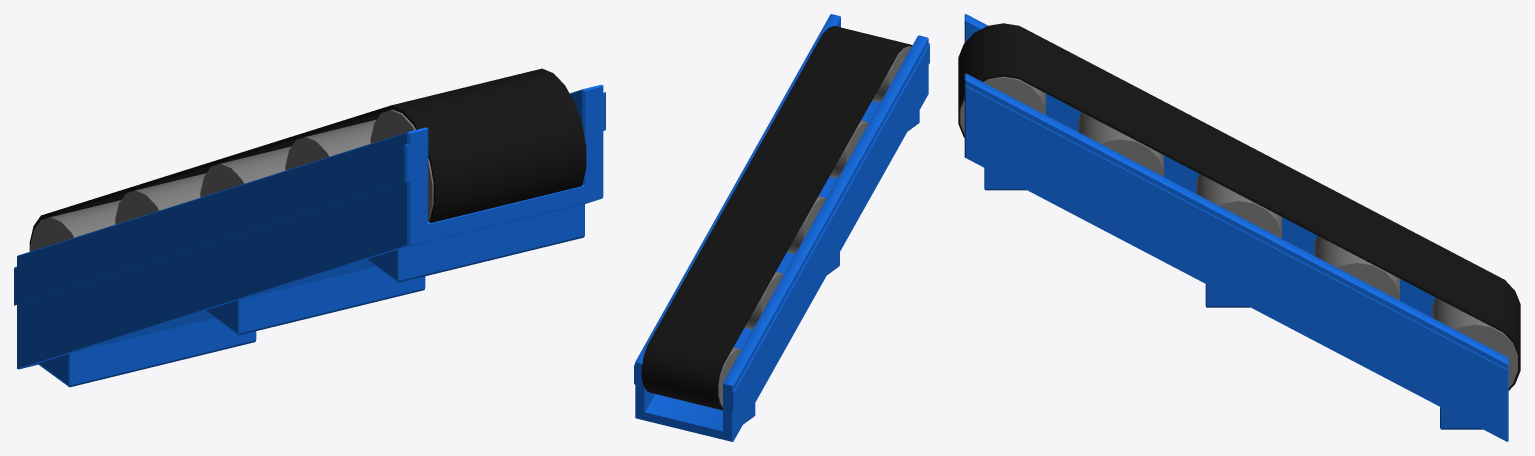
Rendered from conveyor-1x4-angled.fbx.
The picture shows the model from 3 angles, left to right: view 1: azimuth 30°, elevation 25°; view 2: azimuth 150°, elevation 25°; view 3: azimuth 270°, elevation 25°; orthographic projection. The views are drawn at different scales.
Visible parts, largest first — view 1: case, belt, roller, Cube, Cube.002, Cube.001; view 2: belt, case, roller; view 3: case, belt, roller, Cube.002.
Part boxes in pixels (x1=…): case: x1=14, y1=84, x2=605, y2=369; belt: x1=29, y1=68, x2=586, y2=251; roller: x1=30, y1=109, x2=585, y2=251; Cube: x1=366, y1=204, x2=584, y2=282; Cube.002: x1=205, y1=266, x2=425, y2=335; Cube.001: x1=37, y1=318, x2=256, y2=387; belt: x1=641, y1=26, x2=912, y2=410; case: x1=634, y1=14, x2=929, y2=441; roller: x1=718, y1=46, x2=911, y2=406; case: x1=964, y1=14, x2=1508, y2=441; belt: x1=958, y1=23, x2=1520, y2=390; roller: x1=960, y1=76, x2=1517, y2=387; Cube.002: x1=1205, y1=284, x2=1250, y2=307.
Size of the model in its own units: 103 by 255 by 358.
